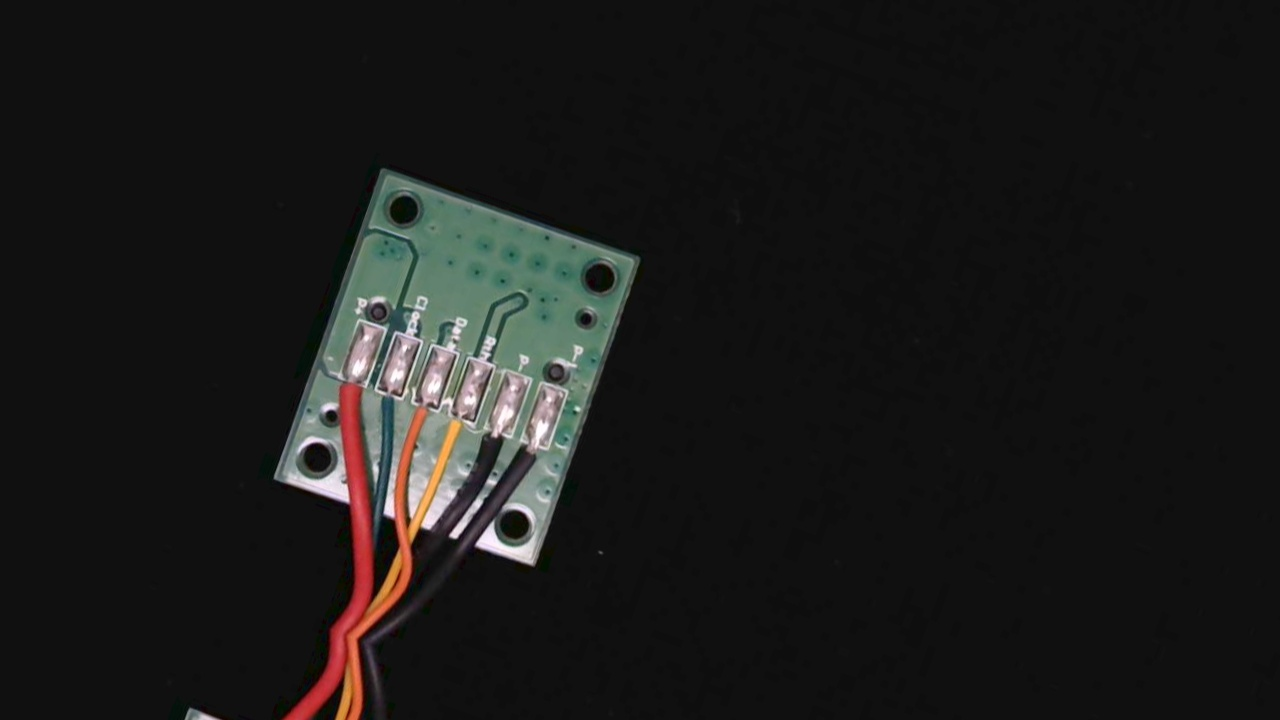Black: (468, 411, 518, 478)
Black1: (503, 421, 557, 496)
Green: (361, 375, 406, 438)
Orange: (394, 385, 444, 454)
Red: (318, 359, 374, 437)
Yellow: (425, 397, 483, 478)
